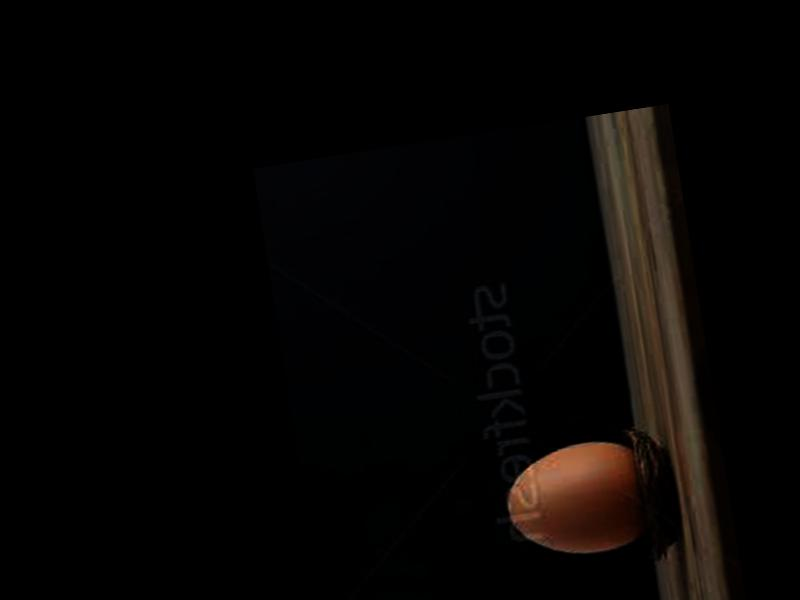Eggs: (500, 437, 651, 566)
